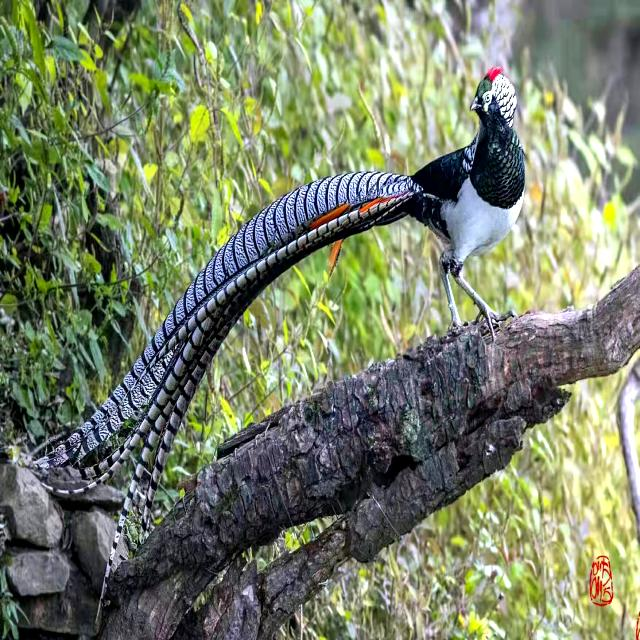Chrysolophus amherstiae: (36, 172, 429, 568)
